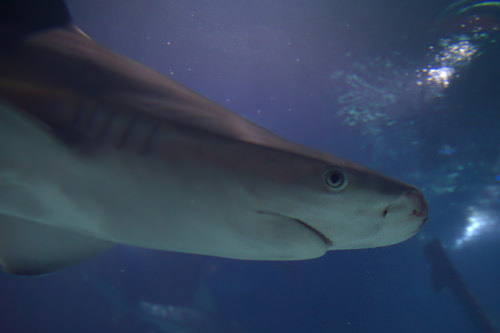shark: (5, 3, 443, 300)
